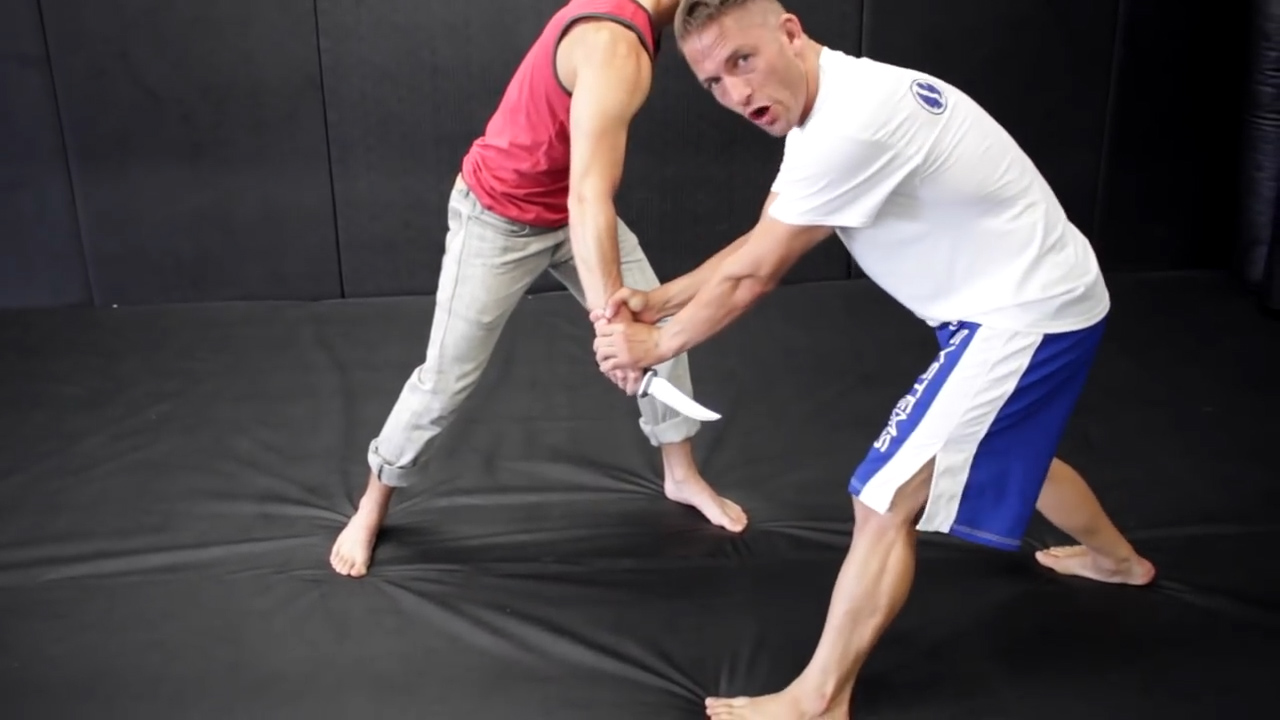knife: (593, 352, 728, 432)
